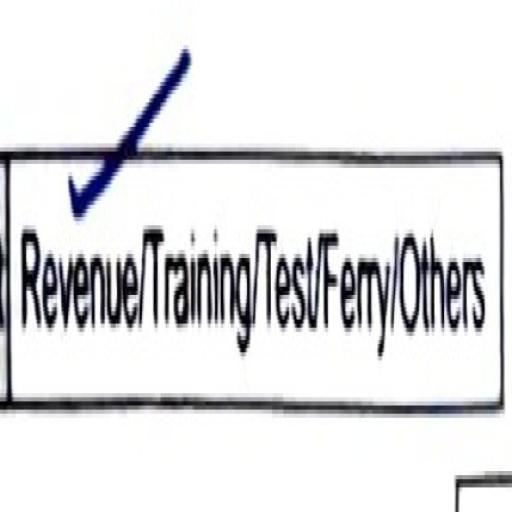check: (14, 71, 142, 404)
